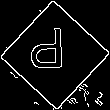P_S: (36, 29, 74, 81)
